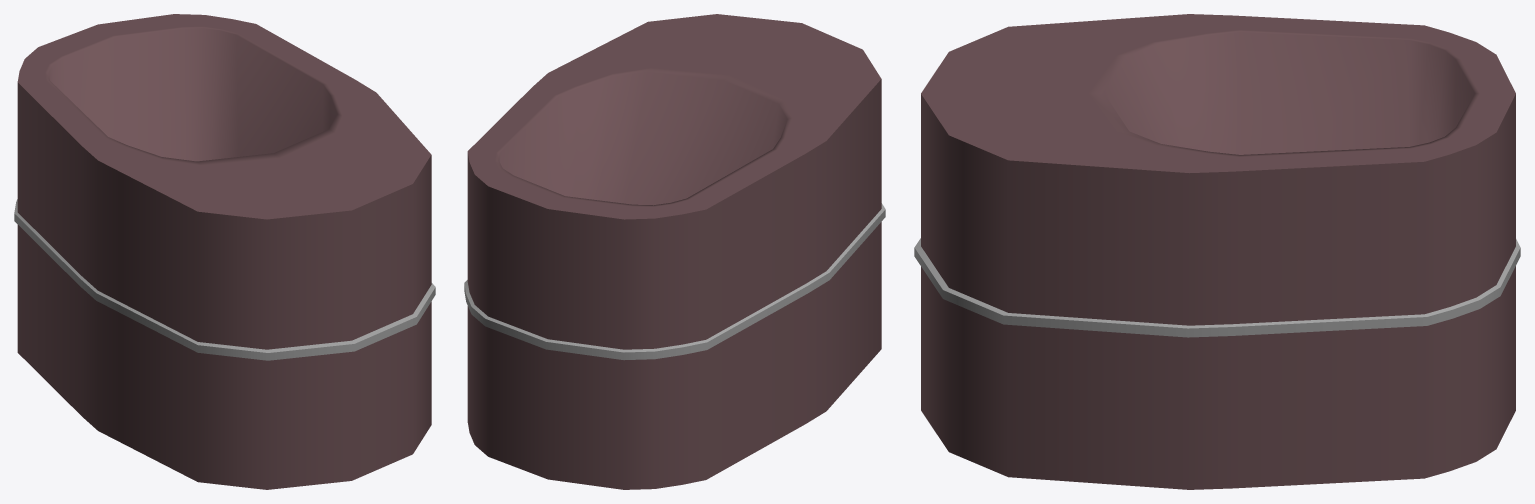
File: prop_ToiletBody.fbx
3 renders of one model, left to right at view 1: azimuth 30°, elevation 25°; view 2: azimuth 150°, elevation 25°; view 3: azimuth 270°, elevation 25°, orthographic. The views are drawn at different scales.
Parts seen in each view (by area): view 1: ToiletBody; view 2: ToiletBody; view 3: ToiletBody.
Boxes of the visible parts, x1,y1,x2,y2 form: ToiletBody: (14,14,435,489); ToiletBody: (464,14,885,489); ToiletBody: (914,14,1520,489).
Size of the model in its own units: 357 by 326 by 564.
